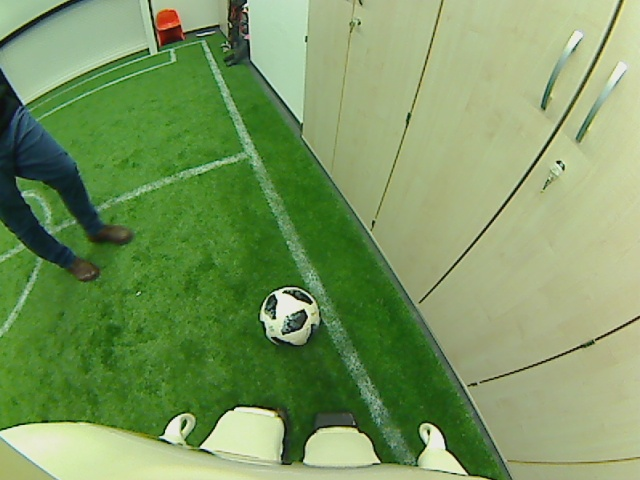ball: (258, 284, 320, 346)
